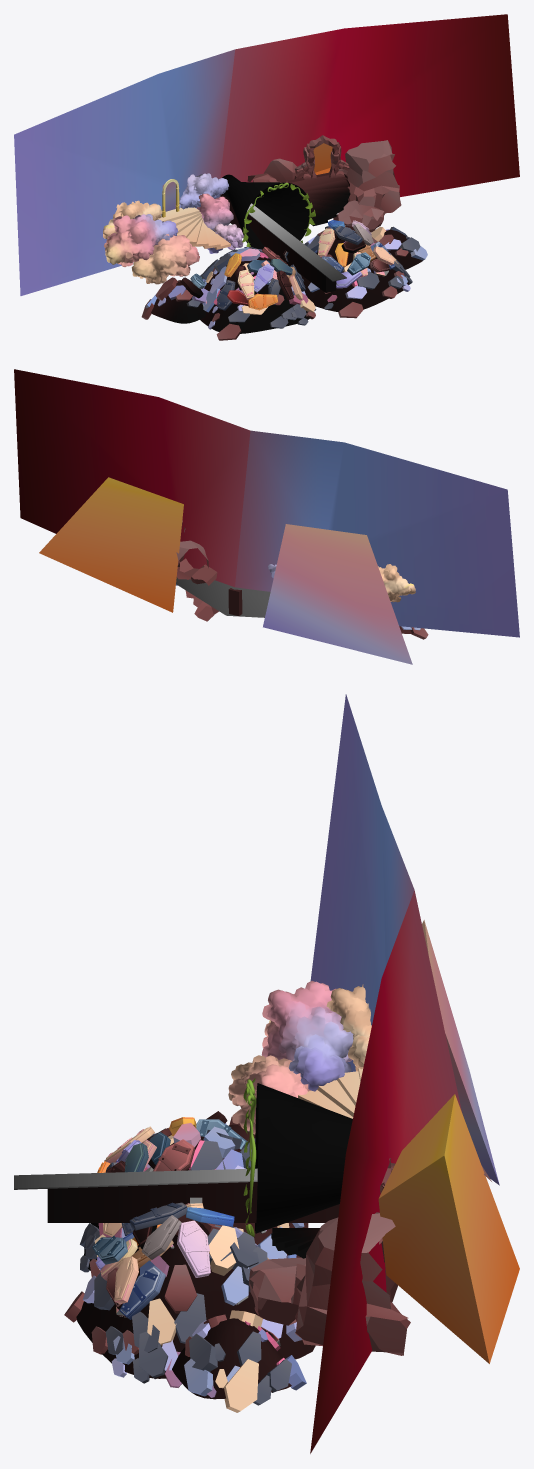
The model's file is Prefabs_scene.fbx.
The picture shows the model from 3 angles, top to bottom: view 1: azimuth 30°, elevation 25°; view 2: azimuth 150°, elevation 25°; view 3: azimuth 270°, elevation 25°; orthographic projection. The views are drawn at different scales.
Visible parts, largest first — view 1: ITM_scene; view 2: ITM_scene; view 3: ITM_scene.
Boxes of the visible parts, x1,y1,x2,y2 form: ITM_scene: (14,14,519,340); ITM_scene: (14,369,519,664); ITM_scene: (14,694,519,1453).
Size of the model in its own units: 69.63 by 28.61 by 32.01.
